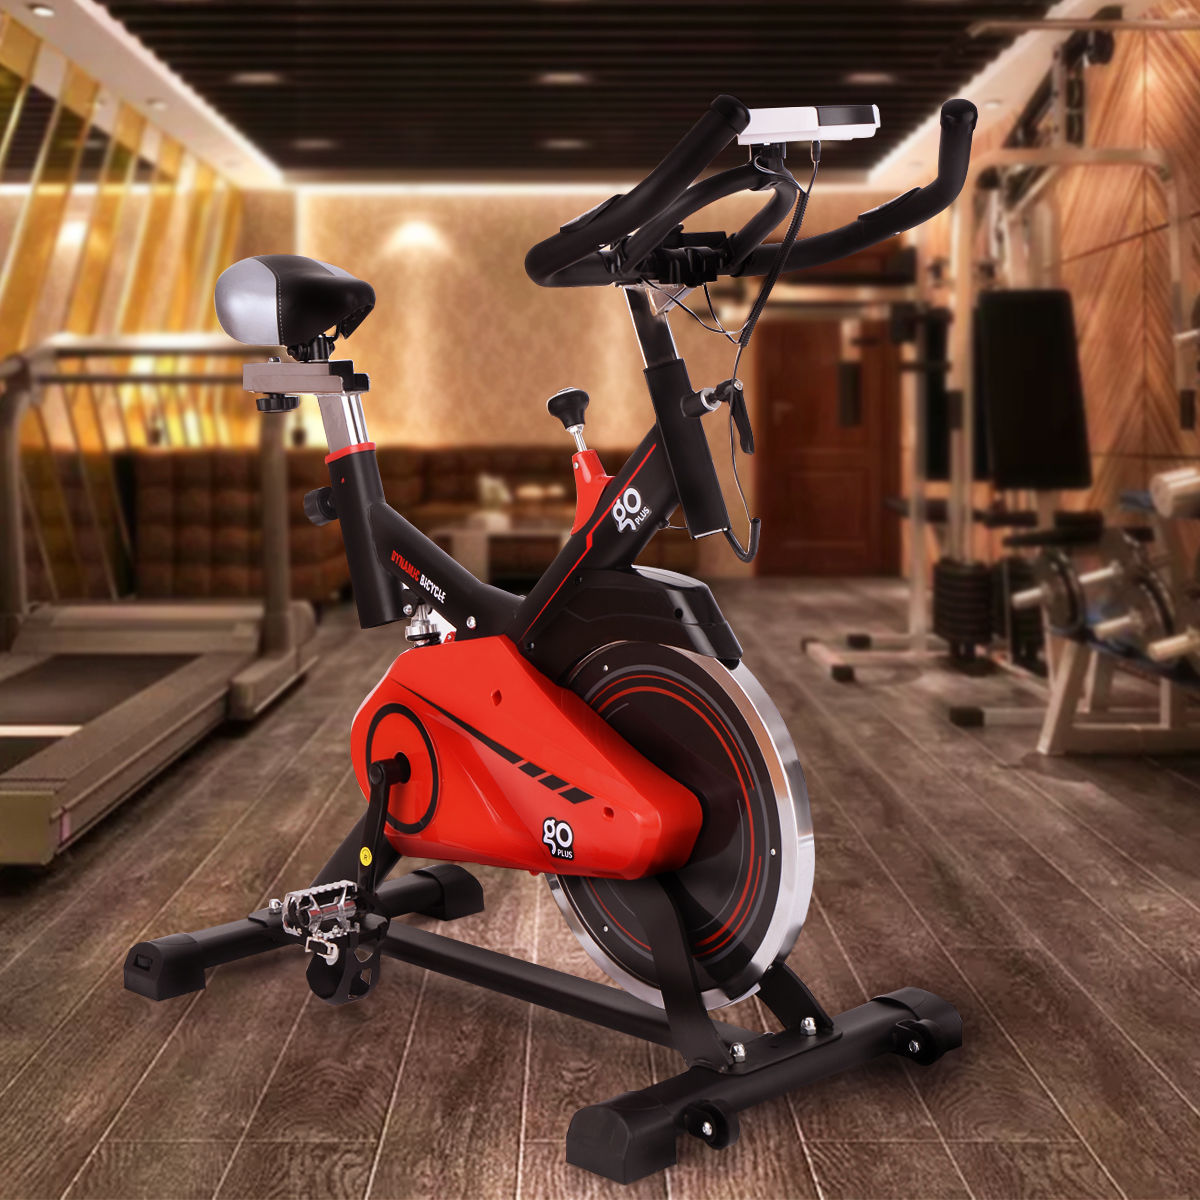gym_bike: (103, 56, 1059, 1182)
